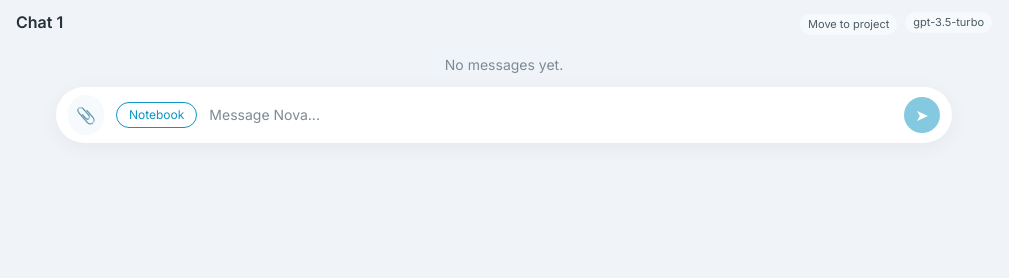
Test case: ChatPanel › sends message and updates UI
// Stage 4: Type and send message
Type "Test message" into the field with placeholder "Message Nova..." at (551, 114), box [209, 104, 892, 124]
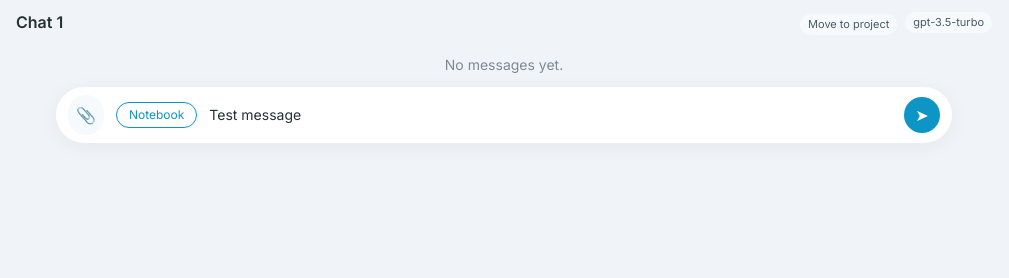
// Send button is now just an arrow icon, find by title
Click the button titled "send message" at (922, 114), box [904, 96, 940, 132]
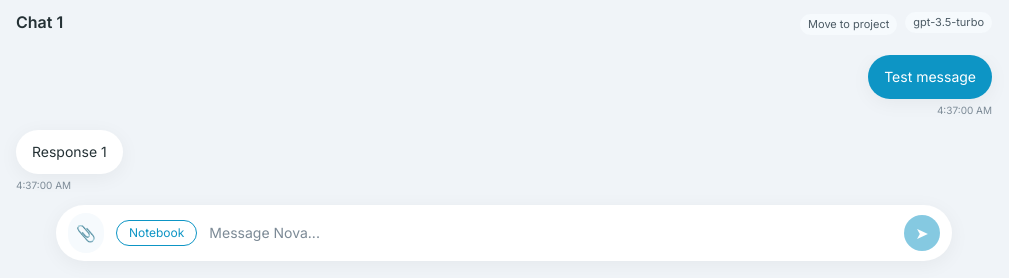
expect the text "Test message" is shown: met, box [884, 66, 976, 86]
expect the text "Response 1" is shown: met, box [32, 142, 107, 162]
